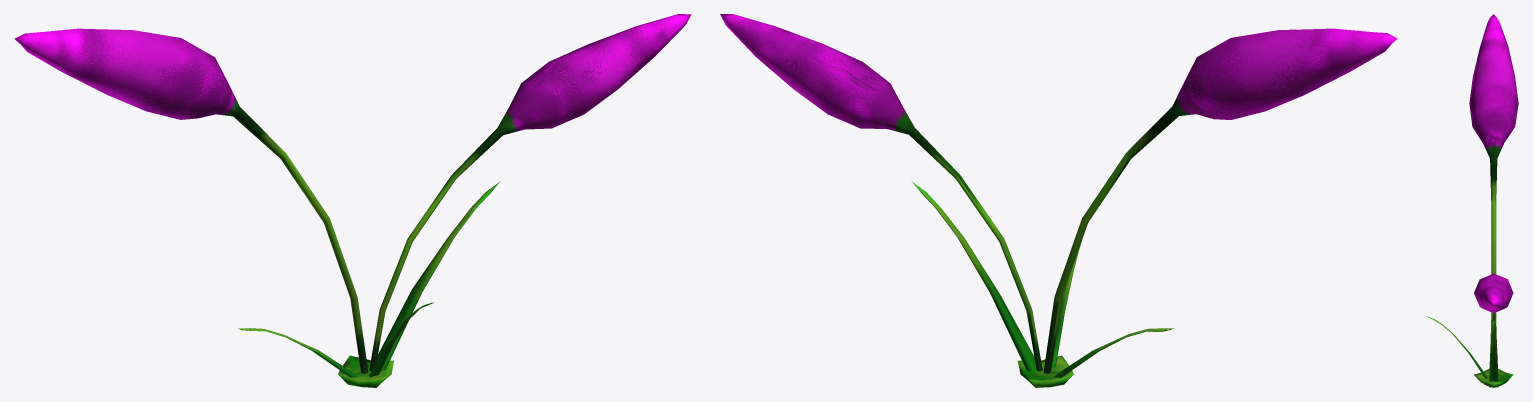
The model's file is lavenderPlant.dae.
3 views of the same model, side by side, from view 1: azimuth 30°, elevation 25°; view 2: azimuth 150°, elevation 25°; view 3: azimuth 270°, elevation 25° (orthographic). The views are drawn at different scales.
Parts seen in each view (by area): view 1: polySurface9; view 2: polySurface9; view 3: polySurface9.
Boxes of the visible parts, left/top/right/bottom form: polySurface9: left=14, top=14, right=691, bottom=387; polySurface9: left=720, top=14, right=1397, bottom=387; polySurface9: left=1427, top=14, right=1518, bottom=387.
Size of the model in its own units: 4.02 by 2.45 by 0.7706.
